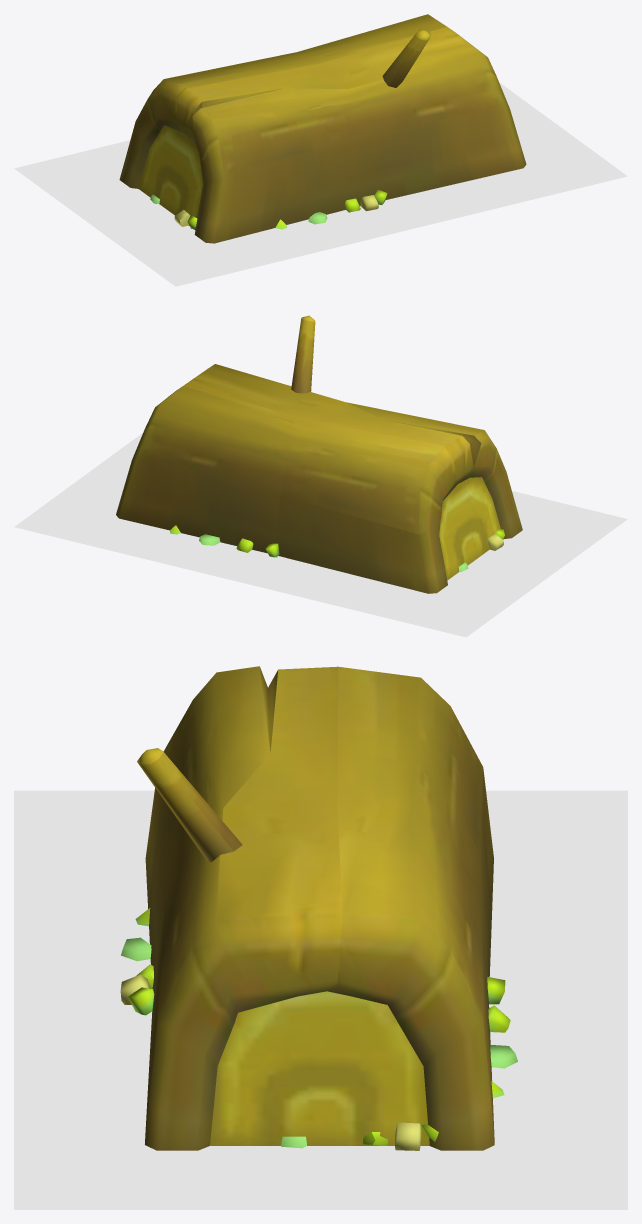
File: wall_tree_small2 (merge).fbx
3 renders of one model, top to bottom at view 1: azimuth 30°, elevation 25°; view 2: azimuth 150°, elevation 25°; view 3: azimuth 270°, elevation 25°, orthographic. The views are drawn at different scales.
Parts seen in each view (by area): view 1: wall_tree_small2, shadow (3); view 2: wall_tree_small2, shadow (3); view 3: wall_tree_small2, shadow (3).
Boxes of the visible parts, bbox=[...] form: wall_tree_small2: bbox=[119, 14, 526, 243]; shadow (3): bbox=[14, 82, 627, 286]; wall_tree_small2: bbox=[116, 315, 522, 593]; shadow (3): bbox=[14, 433, 627, 637]; wall_tree_small2: bbox=[120, 666, 517, 1150]; shadow (3): bbox=[14, 790, 627, 1209].
Bounding box in the file's own units: 2.95 × 1.04 × 1.82.
2 materials, 2 textured.
